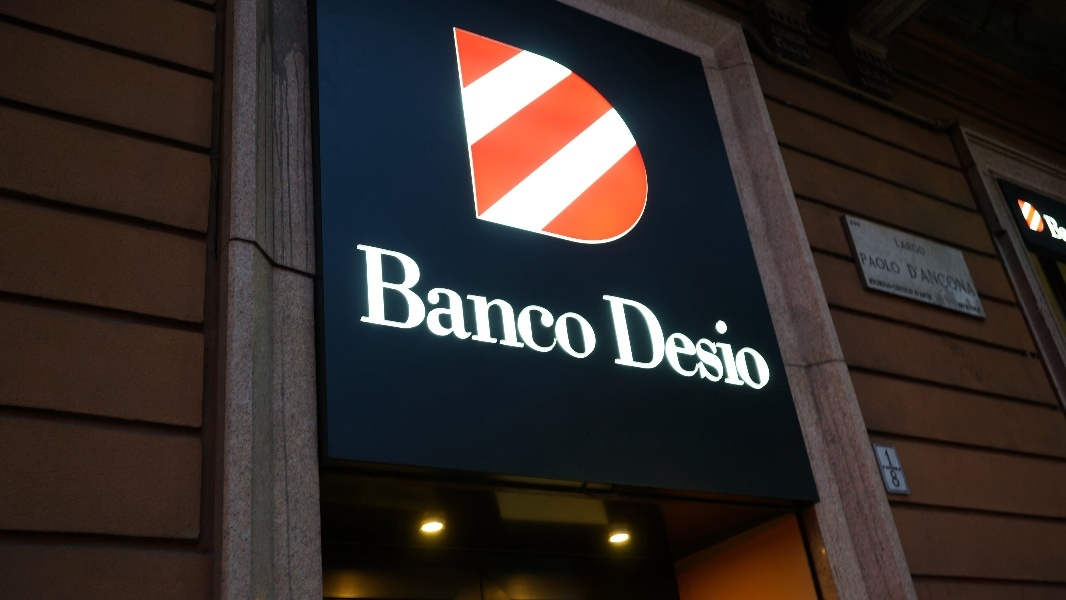text: (369, 238, 384, 364), (385, 238, 400, 364), (401, 238, 416, 364), (417, 238, 432, 364), (433, 238, 448, 364), (449, 238, 464, 364), (465, 238, 480, 364), (481, 238, 496, 364), (497, 238, 512, 364), (513, 238, 528, 364), (529, 238, 544, 364), (545, 238, 560, 364), (561, 238, 576, 364), (577, 238, 592, 364), (355, 238, 368, 364), (609, 292, 624, 393), (625, 292, 640, 393), (641, 292, 656, 393), (657, 292, 672, 393), (673, 292, 688, 393), (689, 292, 704, 393), (705, 292, 720, 393), (721, 292, 736, 393), (737, 292, 752, 393), (753, 292, 768, 393), (769, 292, 778, 393), (593, 238, 599, 364), (601, 292, 608, 393), (913, 263, 928, 297), (929, 263, 944, 297), (945, 263, 960, 297), (961, 263, 976, 297), (1042, 211, 1056, 244), (865, 252, 880, 276), (881, 252, 896, 276), (881, 277, 896, 301), (897, 277, 912, 301), (913, 277, 928, 301), (1057, 211, 1066, 244), (897, 238, 912, 257), (913, 238, 927, 257), (869, 277, 880, 301), (906, 263, 912, 297), (961, 302, 976, 313), (888, 448, 896, 467), (897, 252, 903, 276), (889, 469, 896, 489), (859, 252, 864, 276), (929, 277, 934, 301), (897, 469, 902, 489), (977, 302, 982, 313), (894, 238, 896, 257), (977, 263, 978, 297), (958, 302, 960, 313)
